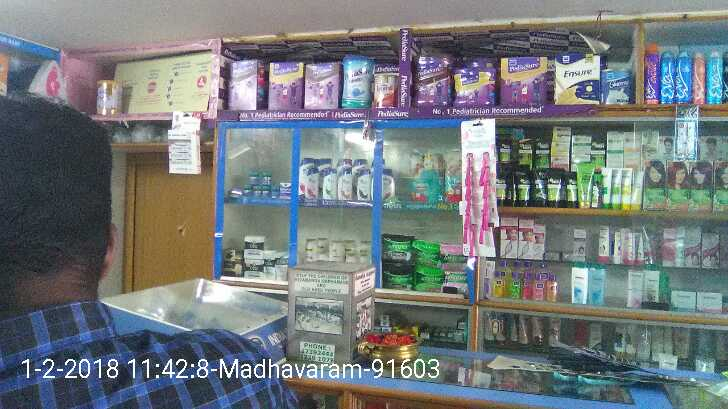vicks: (228, 166, 292, 201)
